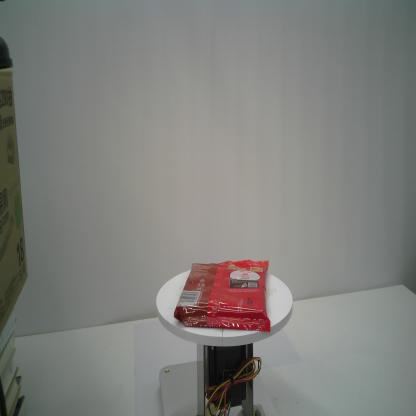Dessert: (173, 259, 271, 333)
